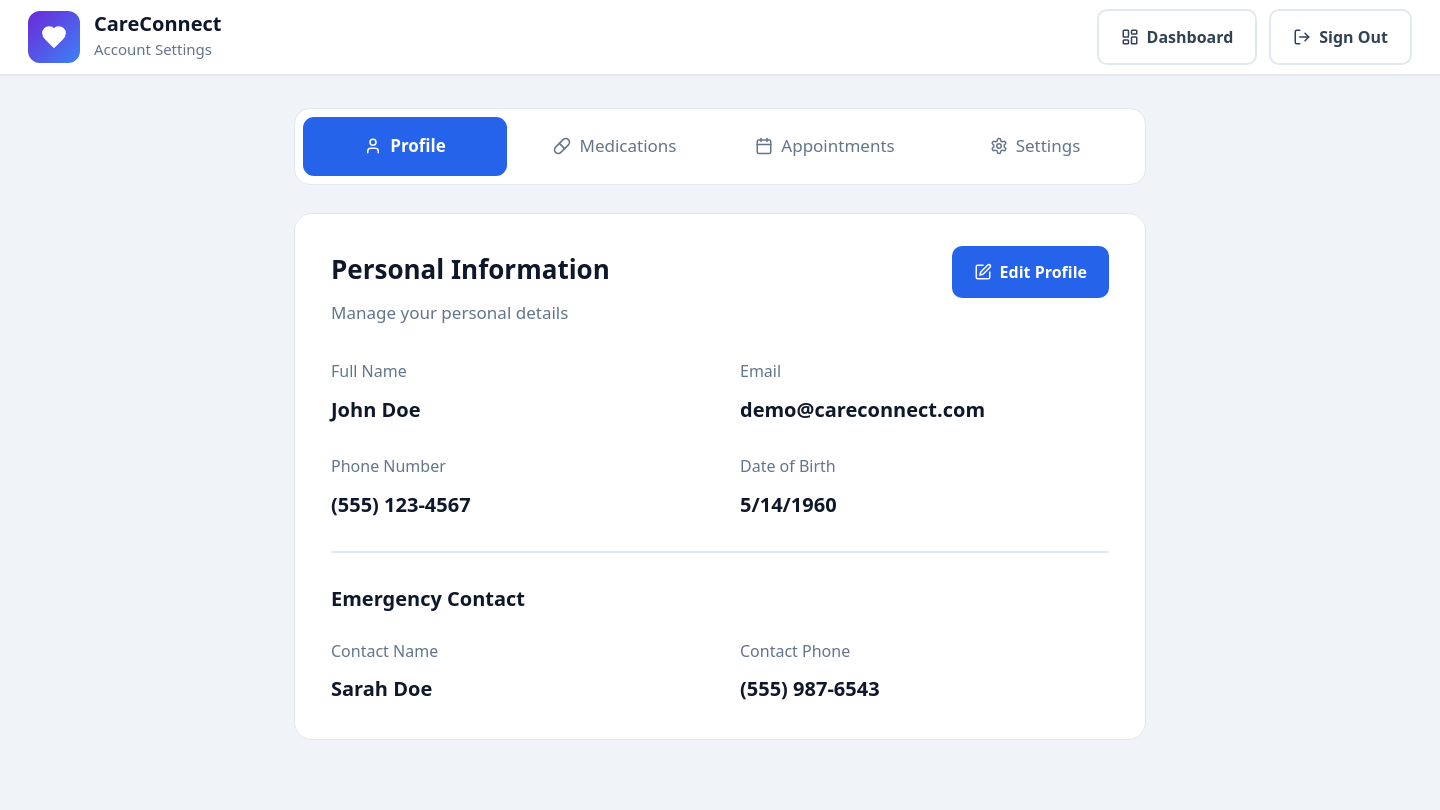
Test case: AccountSettingsPage › opens edit profile modal
This screenshot has width=1440, height=810.
Click the button "Edit Profile" at [1030, 272], box [952, 246, 1109, 298]
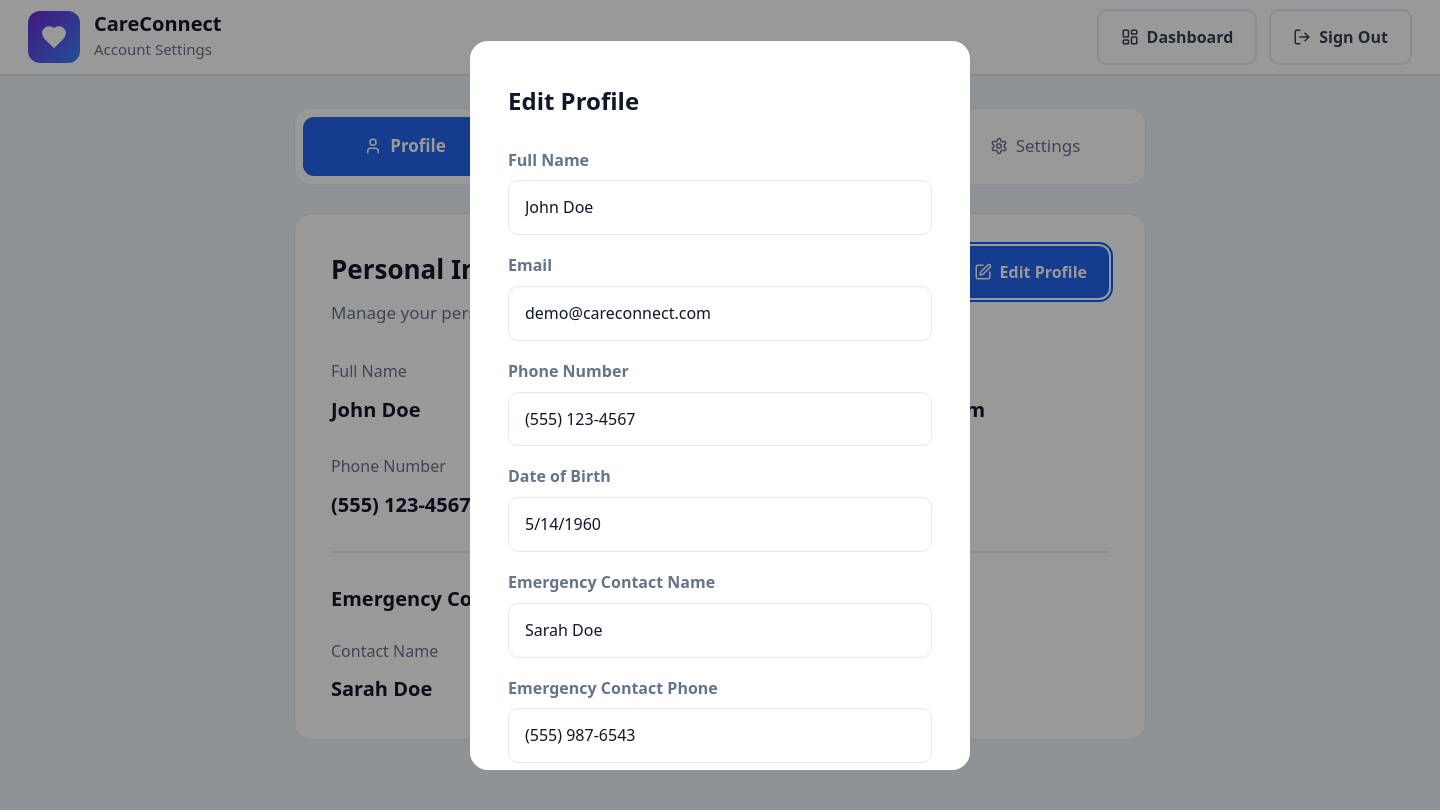
Expected: the heading "Edit Profile" is shown, [508, 84, 639, 116]
Expected: the 1st field showing "John Doe" is shown, [508, 180, 932, 235]
Expected: the 2nd field showing "demo@careconnect.com" is shown, [508, 286, 932, 341]
